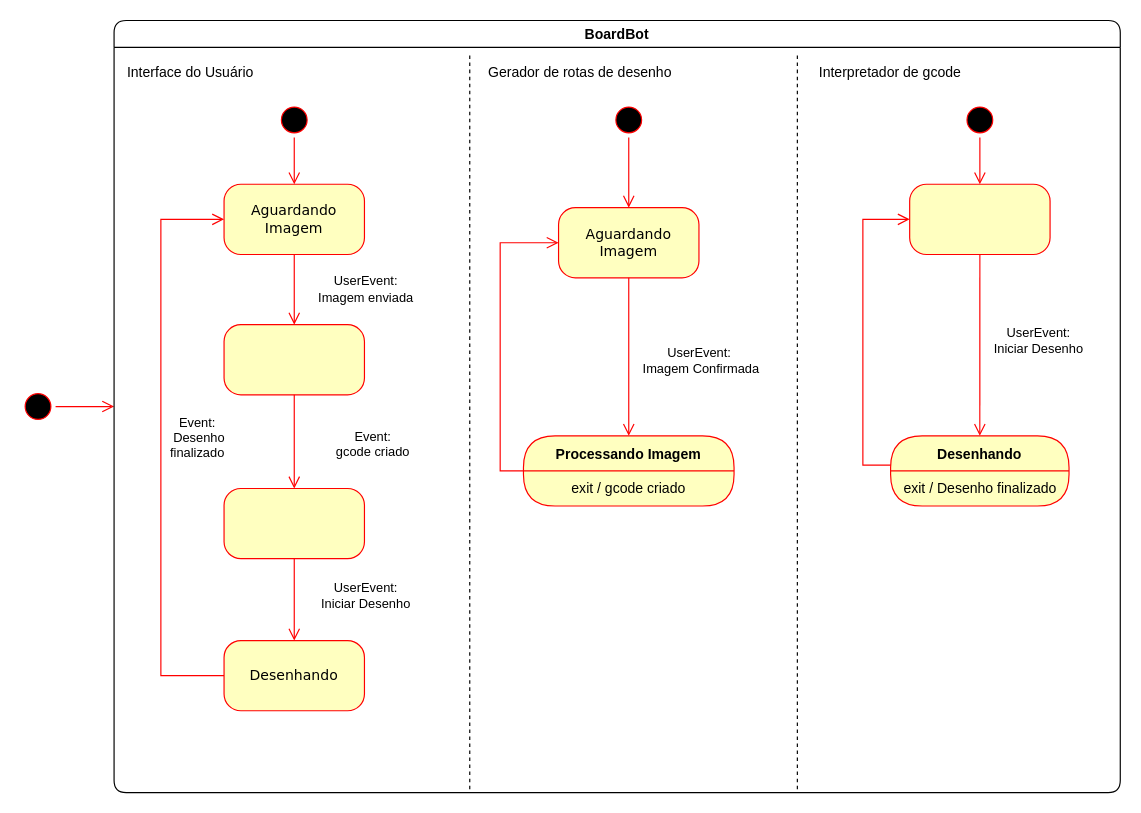
Some shapes in this 1141 by 813 pixel diagram are drawn without their labels. Each missing label, with the centre of its shape:
"Aguardando gcode" goes at (x=979, y=218).
"Confimando Imagem" goes at (x=293, y=359).
"gcode Pronto" goes at (x=293, y=523).
